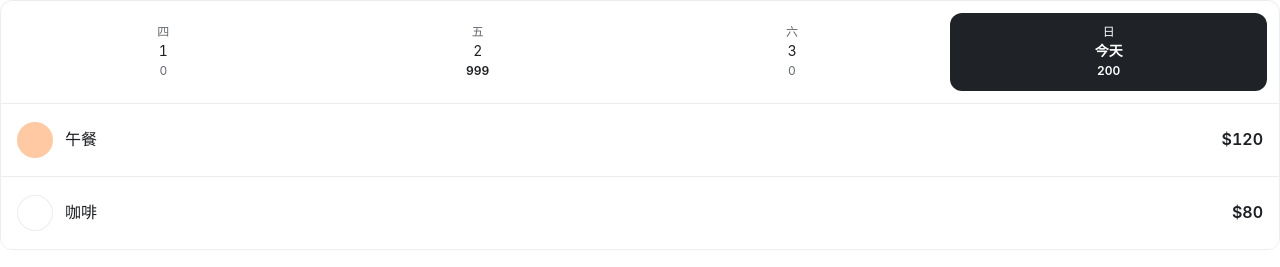
Test: <ExpenseDayStrip /> › says so when the picked day has no spending
This screenshot has width=1280, height=267.
Click the button named "10/03". click: (792, 52)
box: [642, 13, 942, 91]
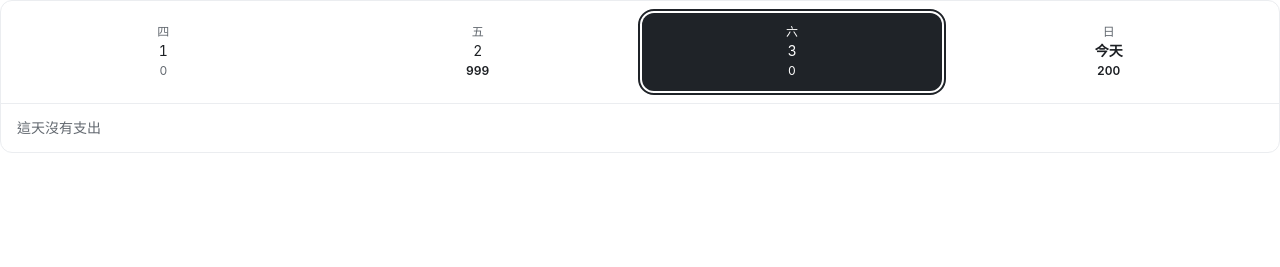
Result: the text "這天沒有支出" is shown at [17, 119, 101, 136]
